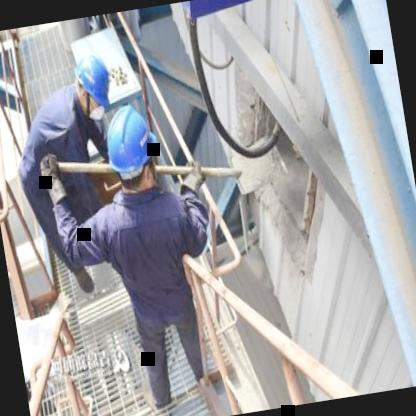helmet: (98, 95, 162, 196), (65, 40, 123, 130)
